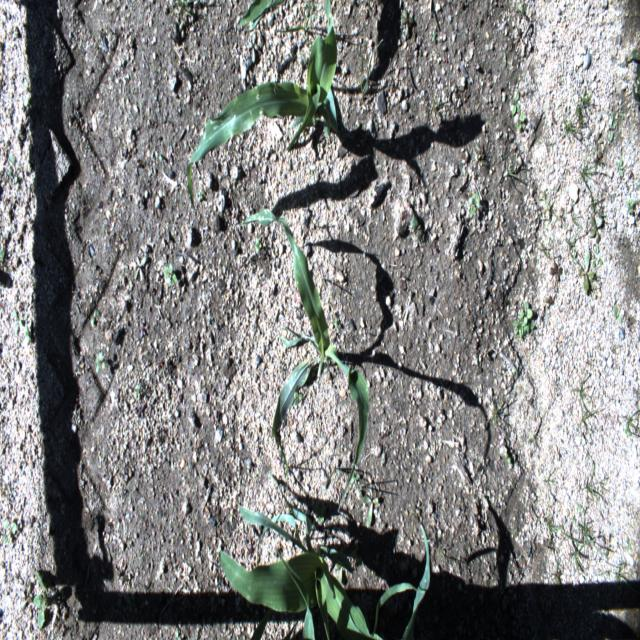crop: (236, 208, 367, 512), (219, 477, 416, 638), (186, 0, 339, 200), (401, 525, 431, 639), (237, 0, 284, 30)
weed: (562, 524, 595, 574), (355, 40, 383, 96), (272, 2, 318, 36), (582, 457, 610, 507), (569, 368, 596, 418), (487, 391, 516, 433), (615, 563, 640, 610), (163, 1, 196, 36), (622, 46, 640, 110), (577, 154, 603, 197), (563, 221, 587, 266), (539, 190, 566, 229), (512, 300, 534, 340), (545, 499, 564, 534), (580, 250, 595, 294), (576, 506, 596, 538), (578, 407, 602, 432), (32, 592, 47, 631), (574, 92, 590, 128), (398, 8, 416, 40), (362, 493, 378, 527), (590, 188, 608, 215), (162, 260, 178, 286), (248, 33, 262, 61), (10, 157, 23, 187), (540, 467, 555, 493), (410, 213, 423, 242), (1, 521, 18, 543), (607, 110, 618, 144), (468, 190, 481, 217), (509, 91, 522, 118), (19, 582, 32, 609), (590, 217, 602, 246), (626, 409, 638, 438), (506, 162, 524, 181), (550, 561, 562, 587), (550, 264, 566, 282), (134, 257, 145, 281), (14, 309, 24, 335), (23, 78, 32, 106), (94, 352, 105, 374), (253, 235, 263, 257), (615, 155, 624, 179), (612, 304, 622, 325), (593, 245, 603, 266), (34, 573, 46, 590), (23, 326, 33, 346), (132, 384, 143, 402), (625, 196, 634, 215), (514, 2, 526, 16), (565, 119, 576, 134), (517, 114, 525, 131), (91, 308, 101, 321), (624, 536, 632, 552), (502, 50, 508, 70), (294, 391, 302, 405), (504, 451, 511, 466), (197, 187, 204, 202), (175, 628, 183, 640), (431, 27, 436, 44), (0, 247, 5, 262), (624, 425, 630, 437)
